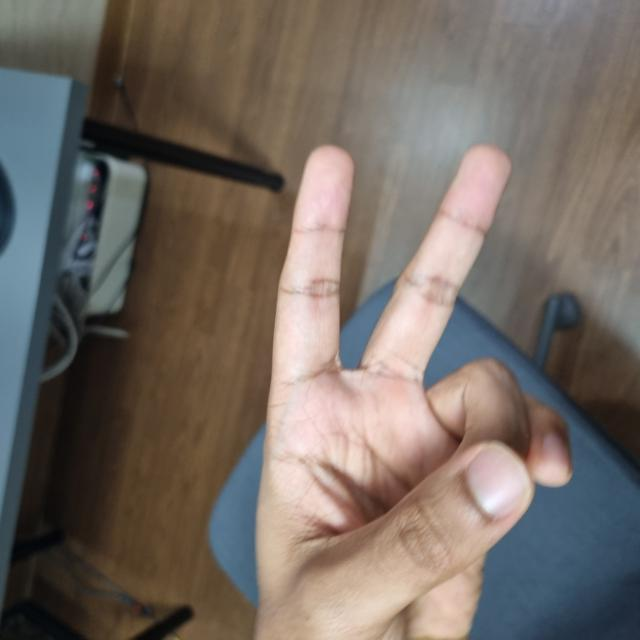Scissors: (0, 257, 489, 554)
